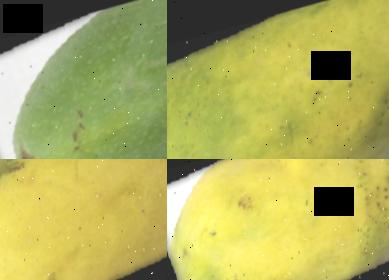PartiallyRipe: (167, 0, 389, 159)
Ripe: (167, 159, 389, 280), (0, 159, 167, 280)
Unripe: (0, 0, 167, 159)
